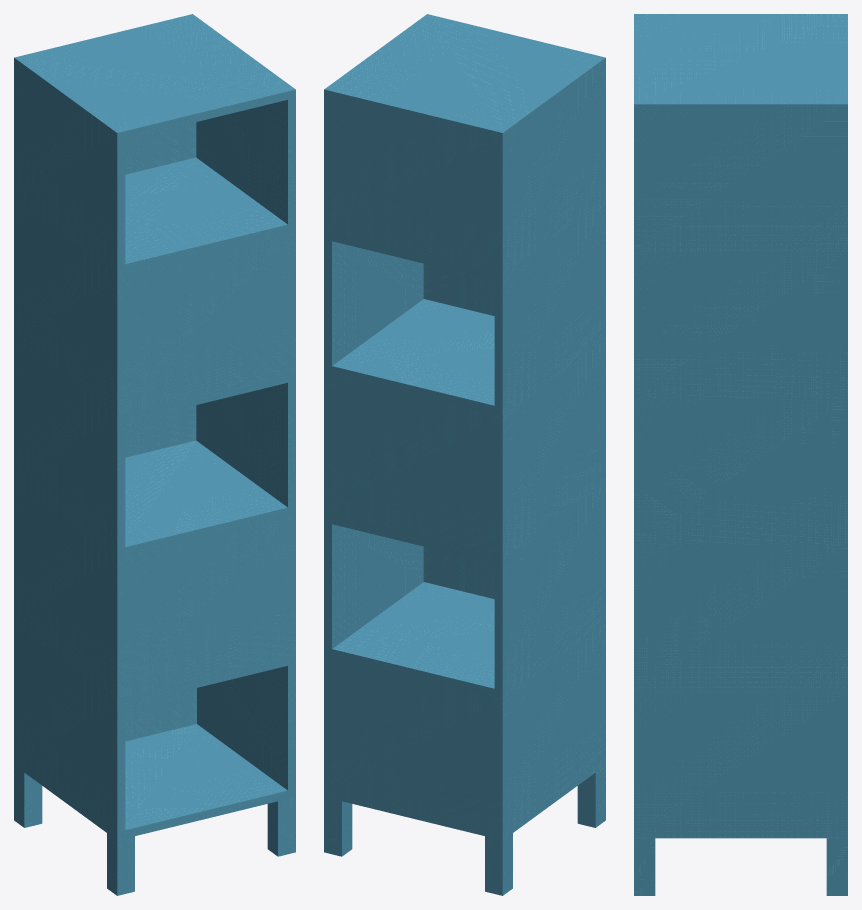
Rendered from blueStellage.glb.
3 renders of one model, left to right at view 1: azimuth 30°, elevation 25°; view 2: azimuth 150°, elevation 25°; view 3: azimuth 270°, elevation 25°, orthographic. The views are drawn at different scales.
Parts seen in each view (by area): view 1: Robot; view 2: Robot; view 3: Robot.
Part boxes in pixels (x1=…): Robot: x1=14, y1=14, x2=295, y2=895; Robot: x1=324, y1=14, x2=605, y2=895; Robot: x1=634, y1=14, x2=847, y2=895.
Size of the model in its own units: 1.12 by 4.58 by 1.12.
Materials: 1 (1 with a texture image).
